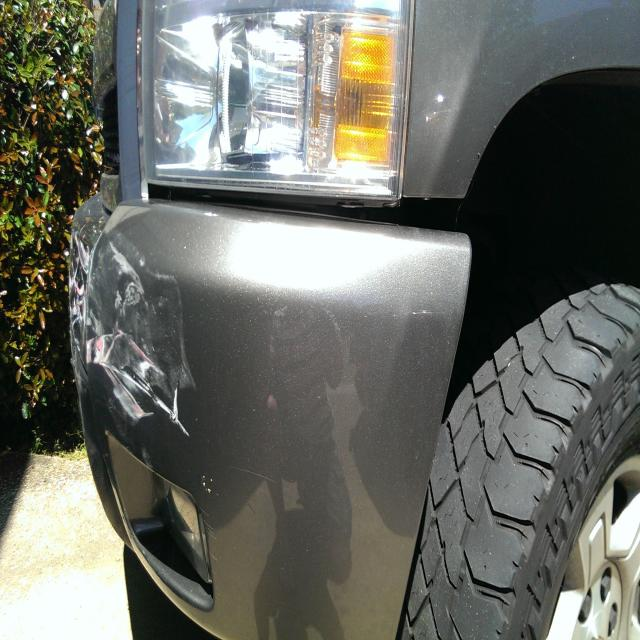misalignment: (147, 183, 470, 235)
scratch: (69, 211, 220, 500)
